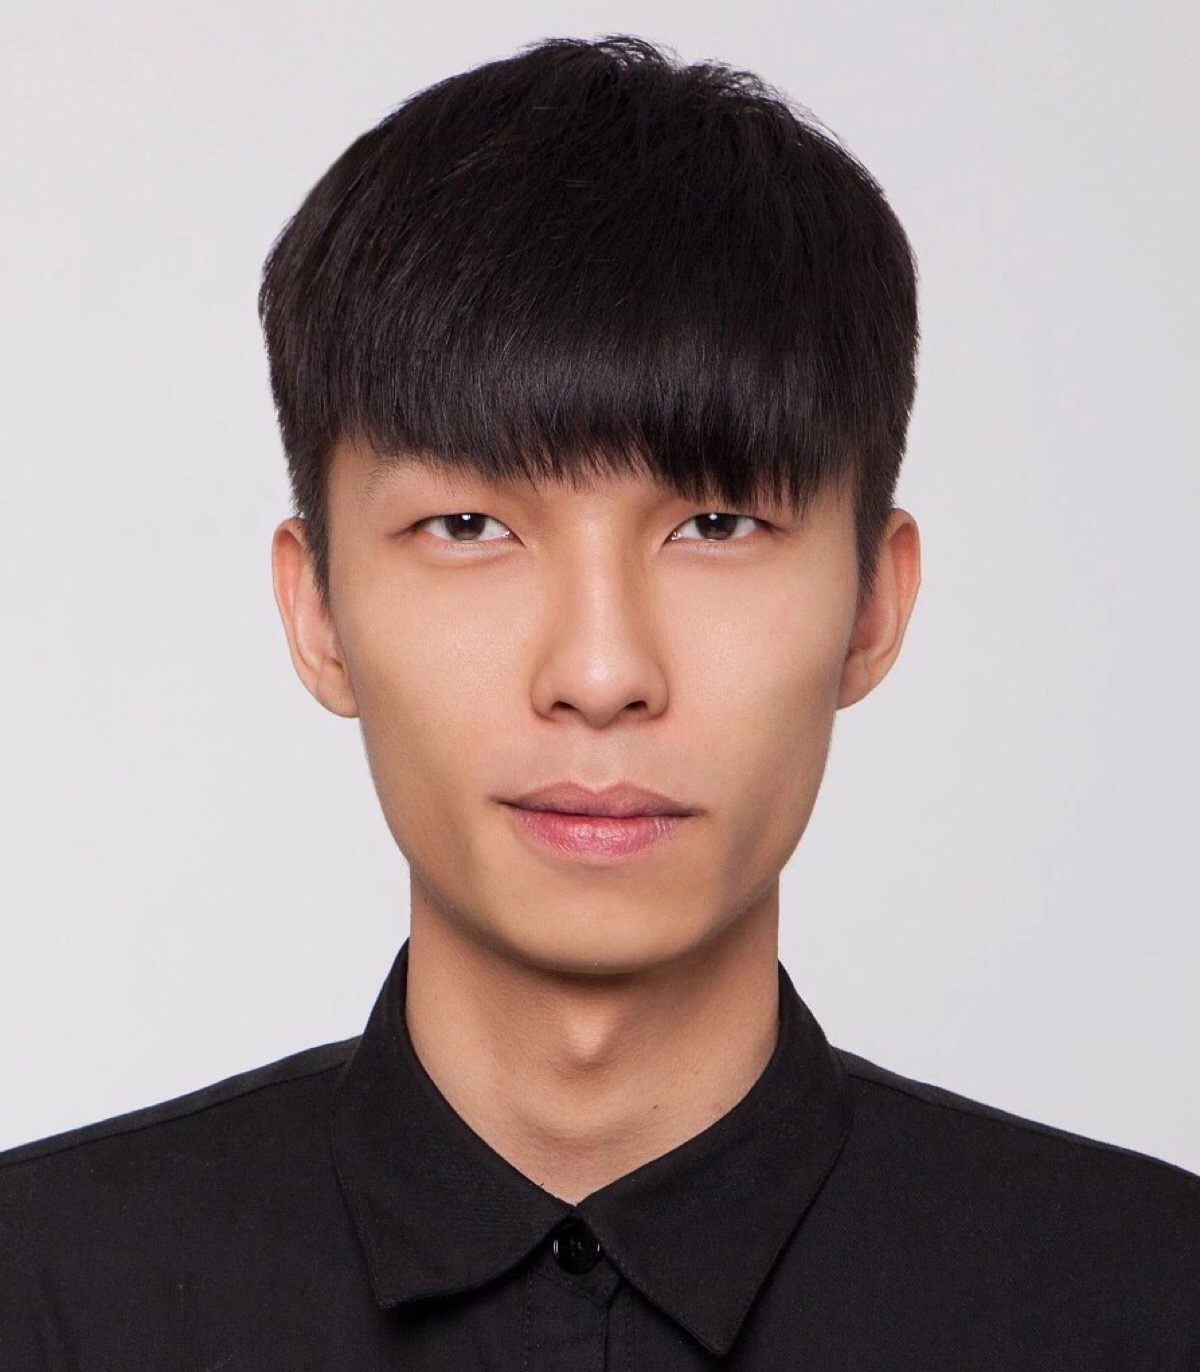unmask: (295, 397, 880, 954)
